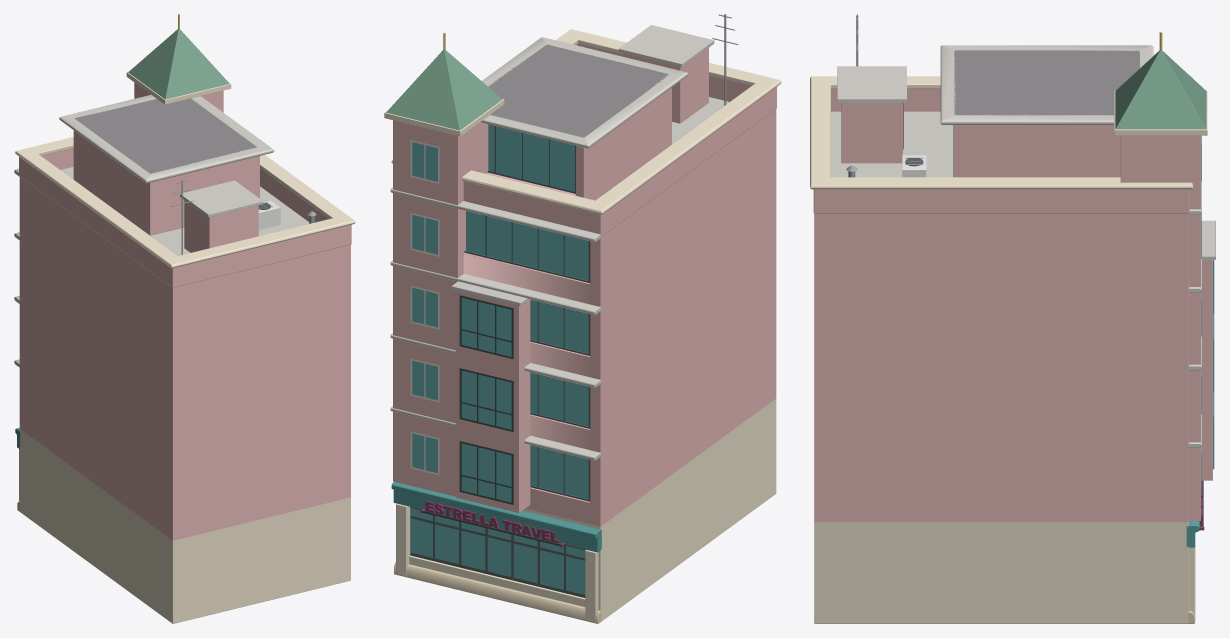
The model's file is far_stucco_02.glb.
3 views of the same model, side by side, from view 1: azimuth 30°, elevation 25°; view 2: azimuth 150°, elevation 25°; view 3: azimuth 270°, elevation 25° (orthographic). The views are drawn at different scales.
Visible parts, largest first — view 1: shell, trim, penthouse, props; view 2: shell, props, trim, penthouse, frames, sign_estrella_travel_text; view 3: shell, props, trim, penthouse.
Part boxes in pixels (x1,y1,x2,y2): shell: (19,167,350,623); trim: (14,95,355,511); penthouse: (73,98,259,235); props: (126,14,316,254); shell: (409,97,776,621); props: (384,14,738,512); trim: (390,29,781,623); penthouse: (486,44,671,200); frames: (410,140,590,597); sign_estrella_travel_text: (425,500,559,543); shell: (814,111,1188,623); props: (837,14,1215,520); trim: (810,45,1201,623); penthouse: (953,50,1139,177).
Size of the model in its own units: 9.71 by 23.65 by 15.15.
